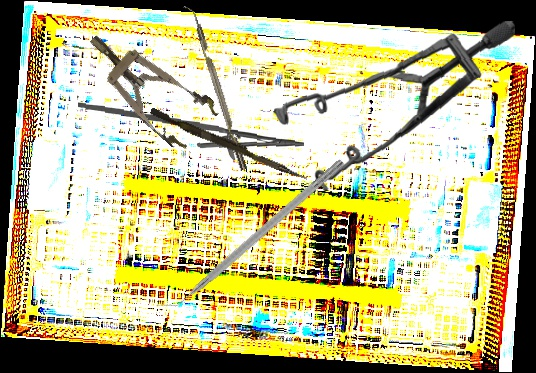Chopper: (153, 148, 347, 320), (181, 2, 248, 174)
Needle Holder: (75, 102, 306, 164)
Pusher: (148, 107, 310, 182)
Speculum: (269, 8, 516, 201), (73, 14, 223, 156)
